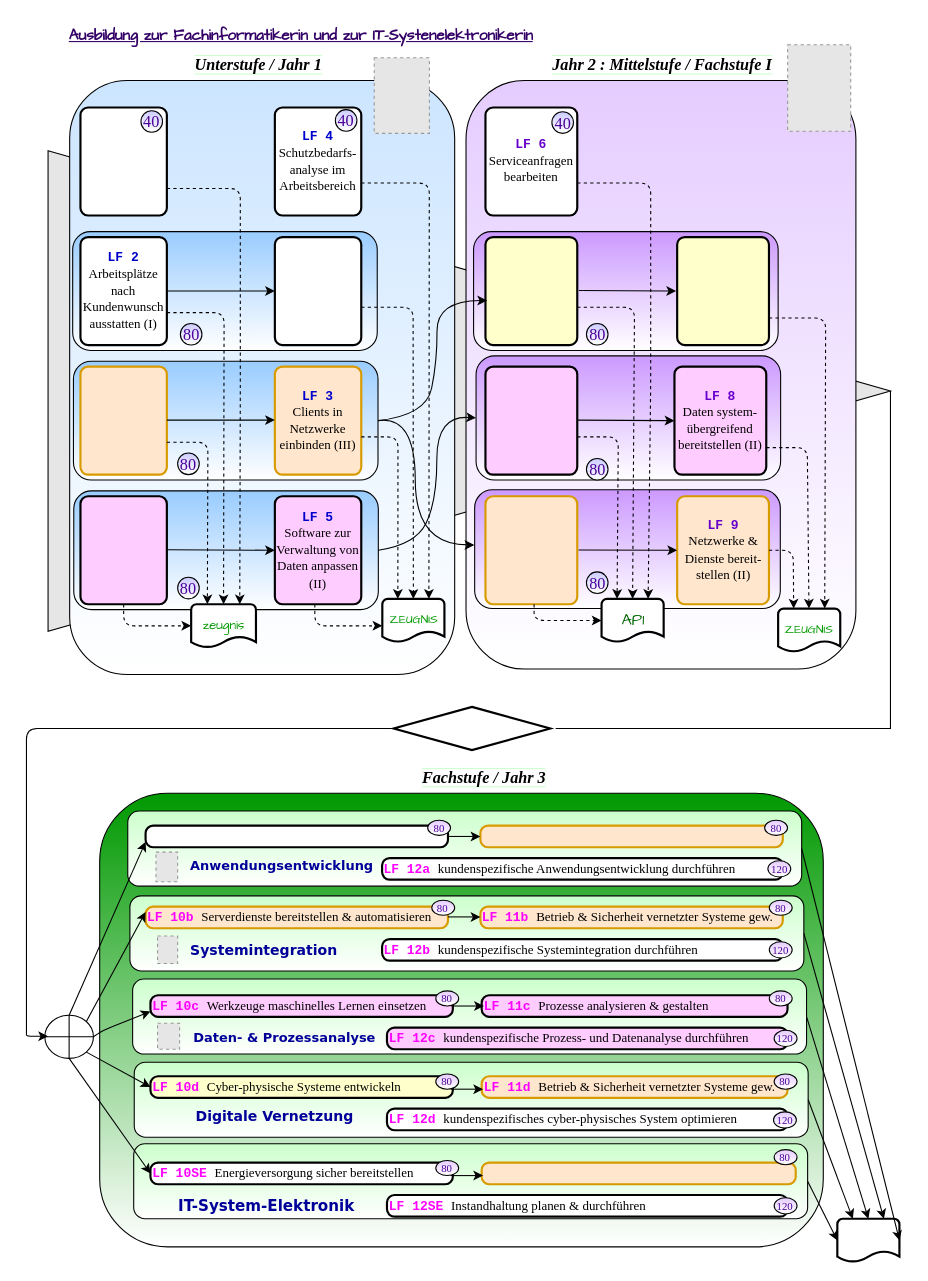
This 928x1281 diagram has some shape labels left out. Grey dashed boxes stand in for pictures. Here are the shapes that lost their labels. From the top down, the box of each, then its label:
(79, 106, 167, 216): LF 1 Unternehmen & eigene Rolle beschreiben
(273, 235, 362, 346): LF 2 Arbeitsplätze nach Kundenwunsch ausstatten (II)
(484, 235, 578, 346): LF 7 Cyber-physische Systeme ergänzen (I)
(676, 235, 770, 346): LF 7 Cyber-physische Systeme ergänzen (II)
(79, 365, 167, 475): LF 3 Clients in Netzwerke einbinden (I)
(484, 365, 578, 475): LF 8 Daten system- übergreifend bereitstellen (I)
(79, 495, 167, 605): LF 5 Software zur Verwaltung von Daten anpassen (I)
(484, 495, 578, 605): LF 9 Netzwerke & Dienste bereitstellen (I)
(392, 705, 551, 751): Spezialisierung
(144, 824, 449, 848): LF 10a Benutzerschnittstellen entwickeln
(479, 824, 783, 848): LF 11a Funktionalität in Anwendungen realisieren
(480, 1161, 796, 1185): LF 11SE Betrieb & Sicherheit vernetzter Systeme gew.
(836, 1217, 900, 1263): AP2
